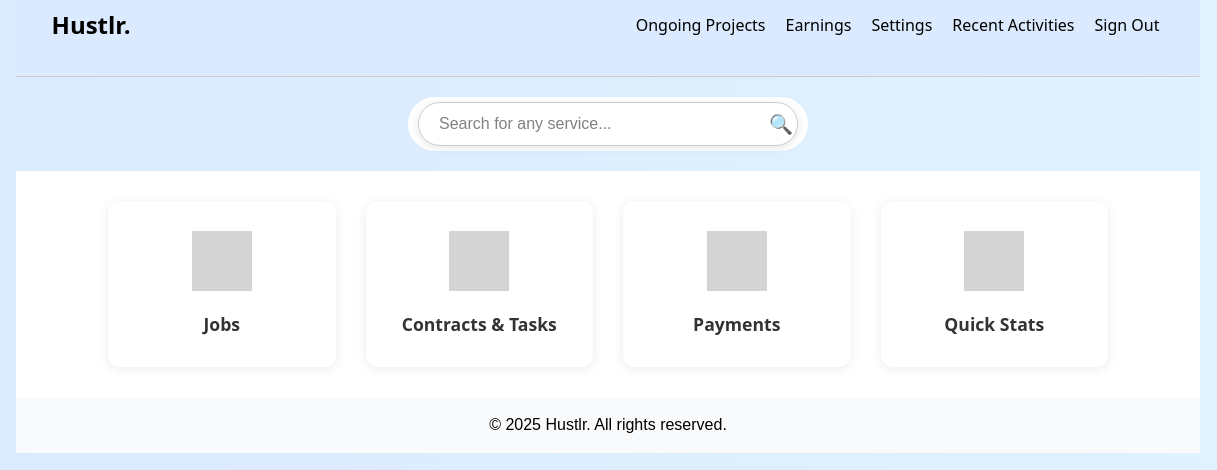
Test case: Freelancers Component › filters categories by keywords
# Search using a keyword ('csv' is in Payments keywords)
In the field with placeholder "Search for any service...": (608, 124) [418, 102, 798, 146], type "csv"
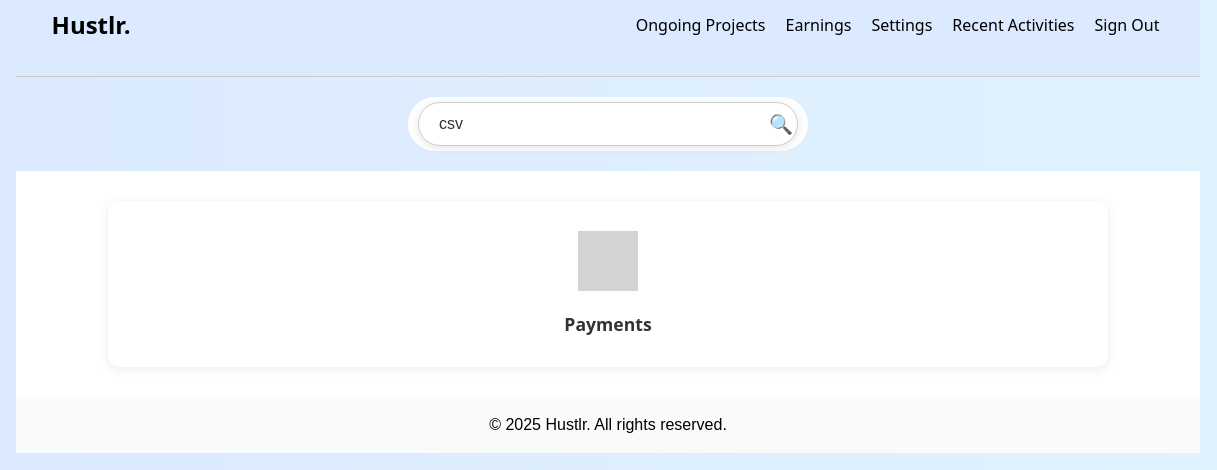
Expected: the text "Payments" is shown, [564, 311, 652, 337]
Expected: the link "Jobs" is gone
